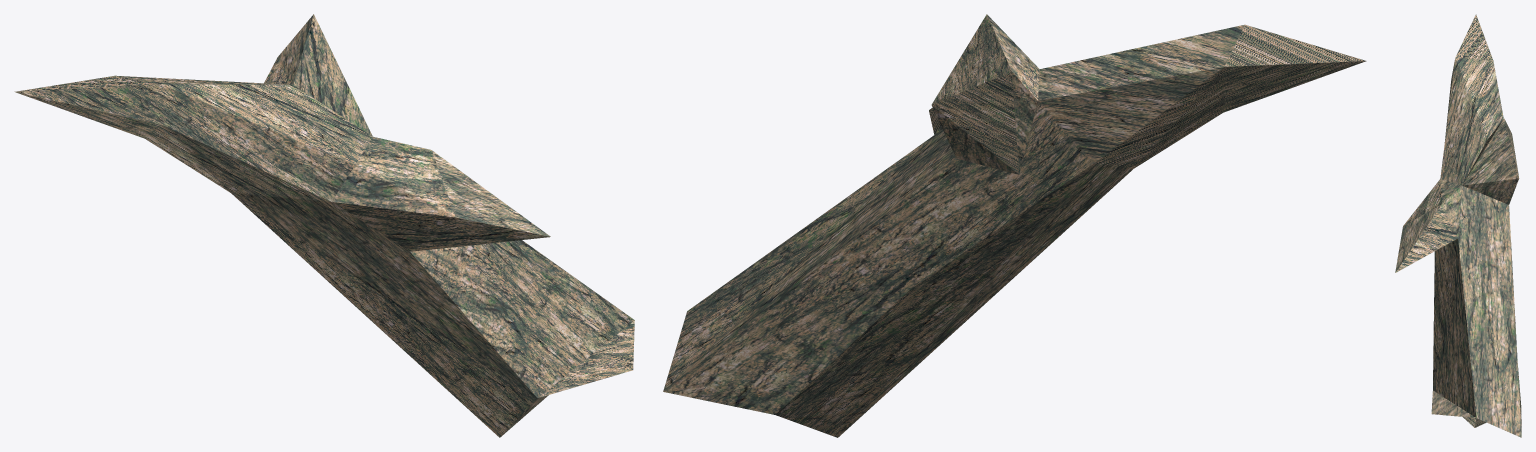
The model's file is poi_all_lair_dead_log_small_l3.fbx.
3 views of the same model, side by side, from view 1: azimuth 30°, elevation 25°; view 2: azimuth 150°, elevation 25°; view 3: azimuth 270°, elevation 25° (orthographic). The views are drawn at different scales.
Parts seen in each view (by area): view 1: mesh_node; view 2: mesh_node; view 3: mesh_node.
Boxes of the visible parts, x1,y1,x2,y2 form: mesh_node: (14, 14, 634, 437); mesh_node: (663, 14, 1366, 437); mesh_node: (1395, 14, 1521, 437).
Bounding box in the file's own units: 6.69 × 4.77 × 2.
